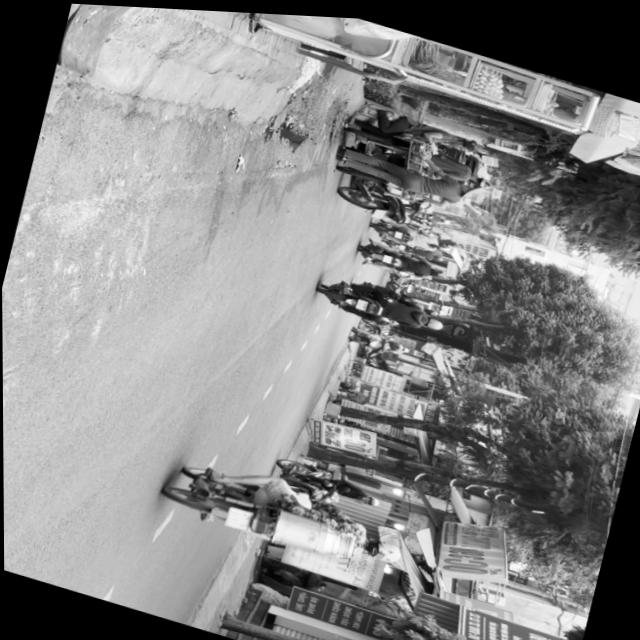helmet: (361, 532, 401, 562)
licenseplate: (158, 445, 412, 580)
nohelmet: (223, 503, 252, 530)
